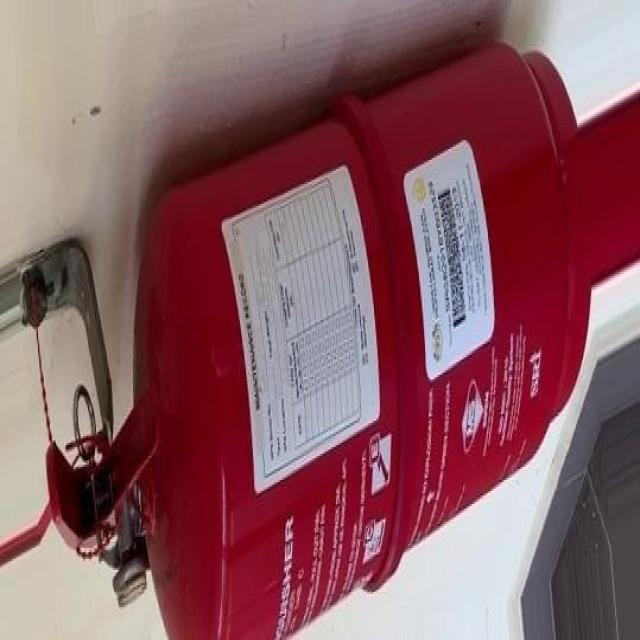fire_extinguisher: (40, 35, 592, 638)
